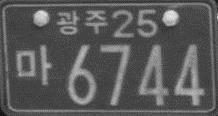2: (111, 8, 135, 38)
4: (172, 44, 206, 106), (136, 44, 168, 107)
5: (136, 8, 158, 38)
6: (65, 41, 97, 104)
7: (99, 41, 132, 107)
광주_O: (55, 8, 108, 36)
마: (14, 43, 53, 88)
